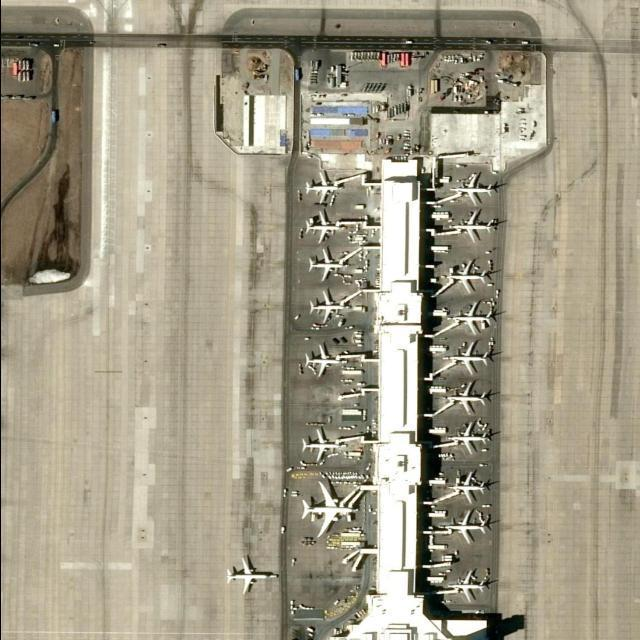Aircraft: (300, 480, 362, 538), (224, 551, 278, 594), (446, 338, 494, 375), (445, 258, 493, 294), (448, 209, 496, 243), (450, 302, 498, 336), (446, 381, 491, 415), (299, 427, 344, 461), (304, 207, 346, 243), (451, 172, 495, 206), (446, 421, 490, 455), (447, 568, 489, 602), (447, 470, 487, 505), (445, 510, 487, 543), (308, 247, 346, 283), (305, 170, 341, 208), (301, 345, 342, 378), (307, 289, 346, 323)
